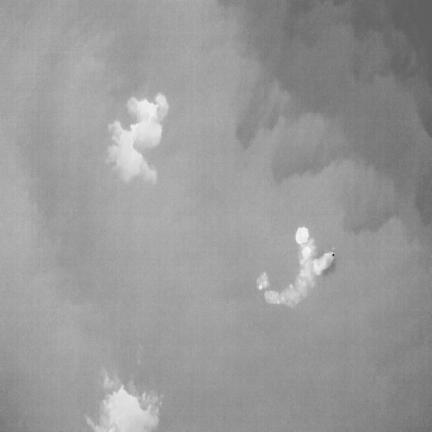flukeprints: (86, 386, 159, 431), (107, 122, 156, 181), (131, 117, 161, 148), (128, 97, 161, 122), (155, 94, 168, 114), (295, 227, 308, 245)
